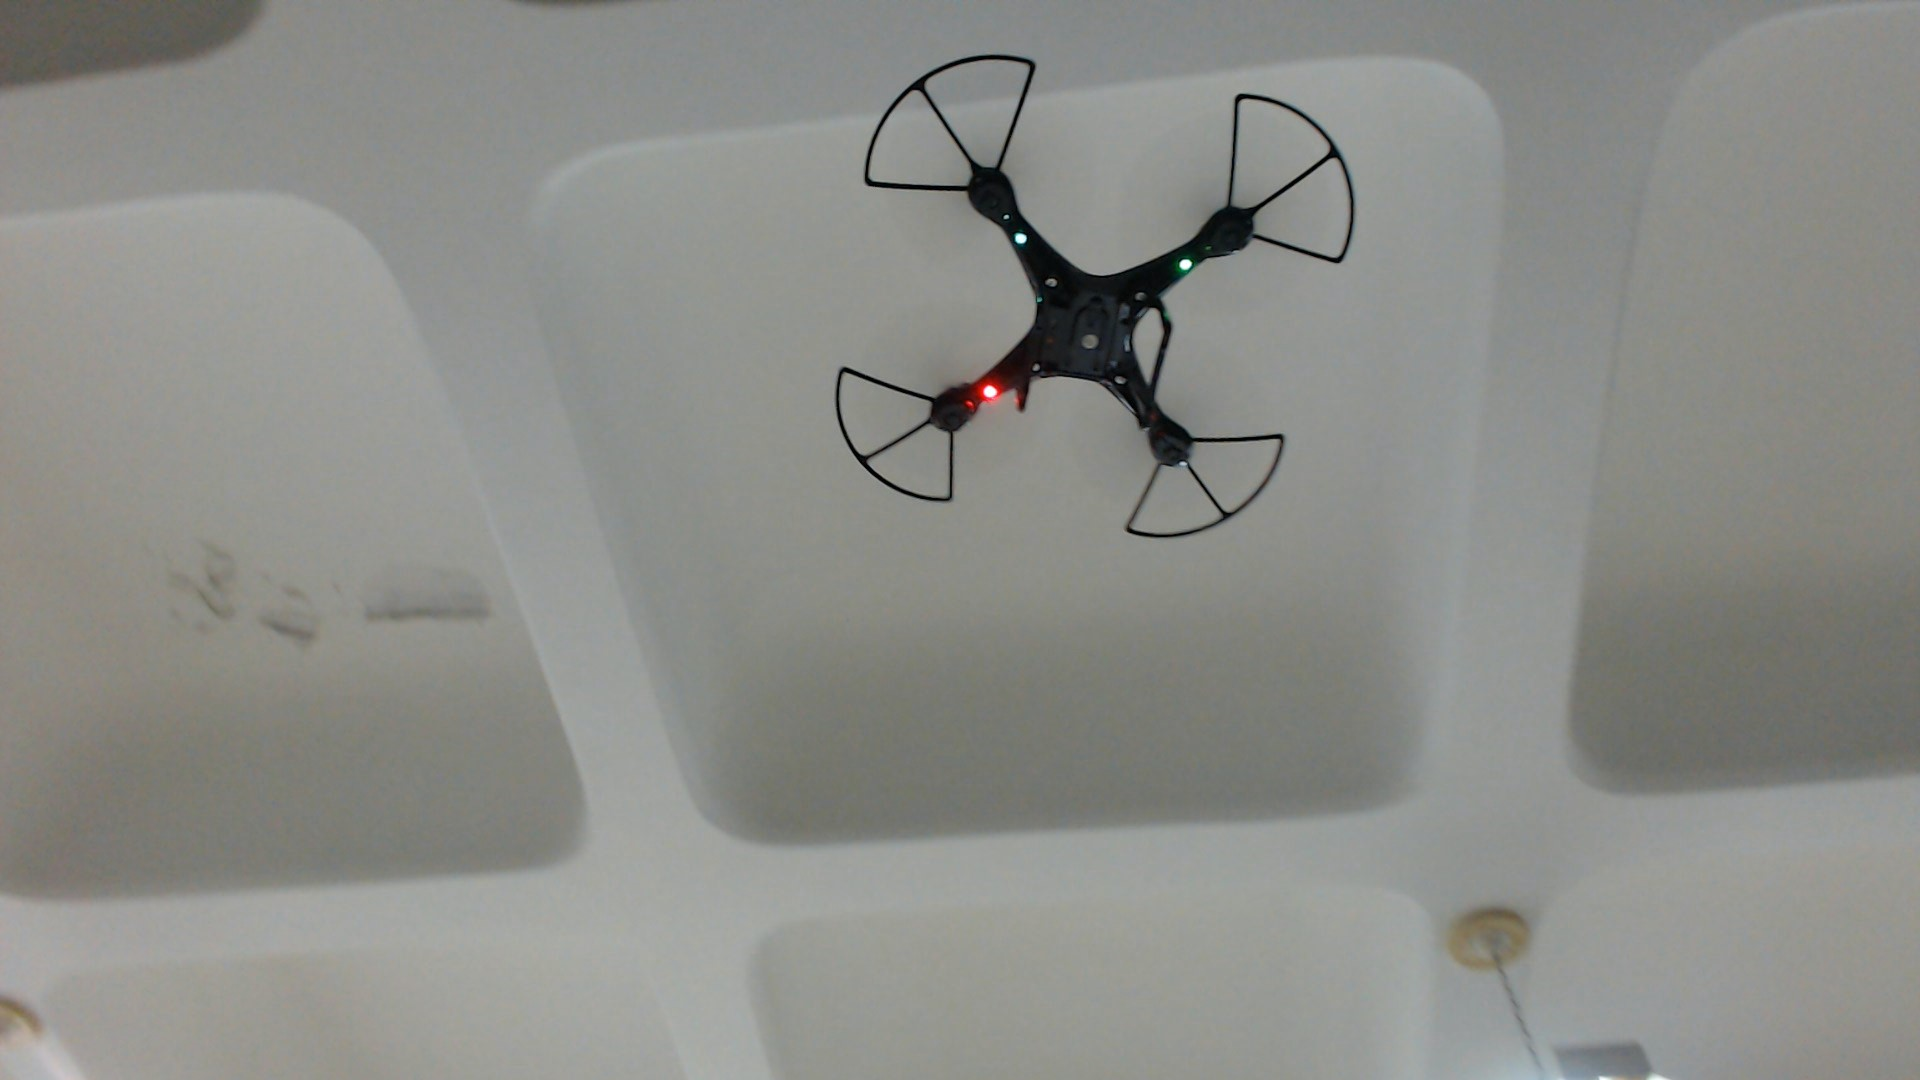test_drone: (832, 50, 1357, 542)
